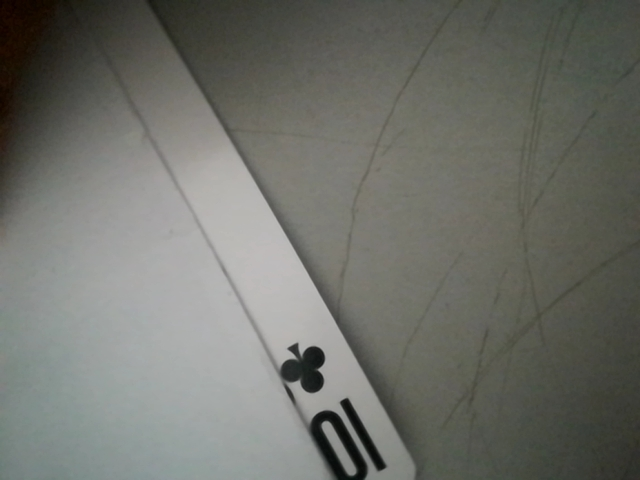mh 10: (269, 330, 409, 480)
